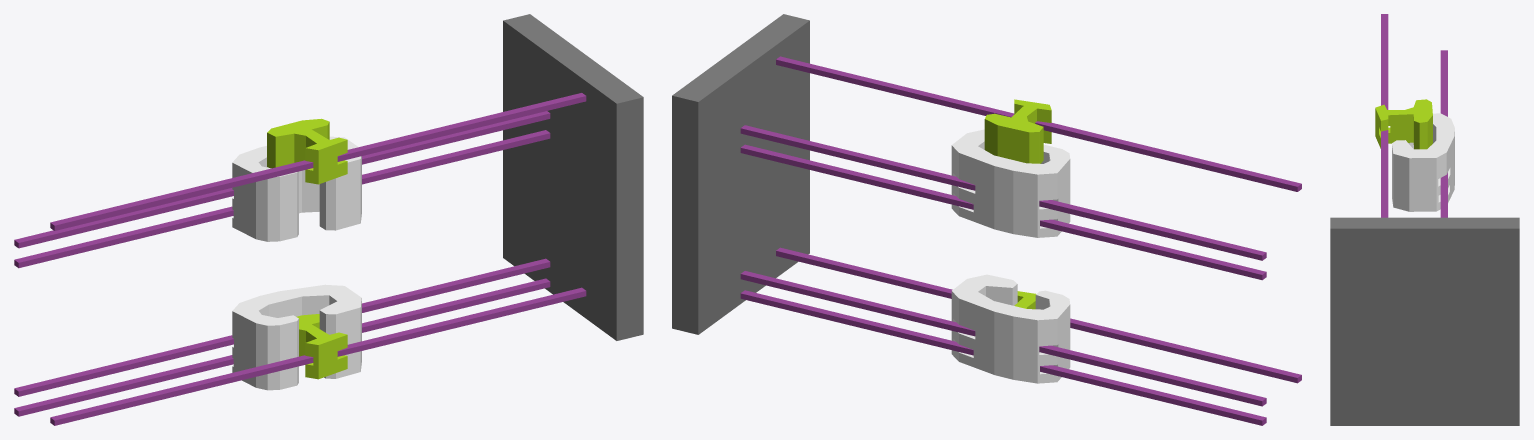
Rendered from stopper_v2b.obj.
3 views of the same model, side by side, from view 1: azimuth 30°, elevation 25°; view 2: azimuth 150°, elevation 25°; view 3: azimuth 270°, elevation 25° (orthographic). The views are drawn at different scales.
Parts seen in each view (by area): view 1: Object.1, Object.5, Object.10, Object.8, Object.3, Object.6, Object.11, Object.4, Object.9, Object.7, Object.2; view 2: Object.1, Object.5, Object.10, Object.8, Object.9, Object.4, Object.6, Object.11, Object.3, Object.7; view 3: Object.1, Object.10, Object.7, Object.8, Object.9.
Part boxes in pixels (x1=…): Object.1: x1=503, y1=14, x2=643, y2=340; Object.5: x1=232, y1=284, x2=361, y2=390; Object.10: x1=232, y1=136, x2=361, y2=241; Object.8: x1=50, y1=93, x2=586, y2=230; Object.3: x1=50, y1=287, x2=586, y2=425; Object.6: x1=14, y1=278, x2=550, y2=416; Object.11: x1=14, y1=130, x2=550, y2=268; Object.4: x1=14, y1=258, x2=550, y2=396; Object.9: x1=14, y1=111, x2=550, y2=248; Object.7: x1=267, y1=118, x2=347, y2=184; Object.2: x1=296, y1=314, x2=347, y2=379; Object.1: x1=672, y1=14, x2=809, y2=334; Object.5: x1=951, y1=274, x2=1070, y2=383; Object.10: x1=951, y1=129, x2=1070, y2=237; Object.8: x1=776, y1=56, x2=1301, y2=191; Object.9: x1=740, y1=125, x2=1266, y2=260; Object.4: x1=740, y1=271, x2=1266, y2=406; Object.6: x1=740, y1=290, x2=1266, y2=425; Object.11: x1=740, y1=144, x2=1266, y2=280; Object.3: x1=776, y1=247, x2=1301, y2=383; Object.7: x1=984, y1=99, x2=1051, y2=163; Object.1: x1=1330, y1=217, x2=1519, y2=425; Object.10: x1=1392, y1=113, x2=1454, y2=211; Object.7: x1=1375, y1=99, x2=1432, y2=149; Object.8: x1=1381, y1=14, x2=1388, y2=217; Object.9: x1=1440, y1=50, x2=1447, y2=217.
Bounding box in the file's own units: 184 × 76.2 × 64.72.
